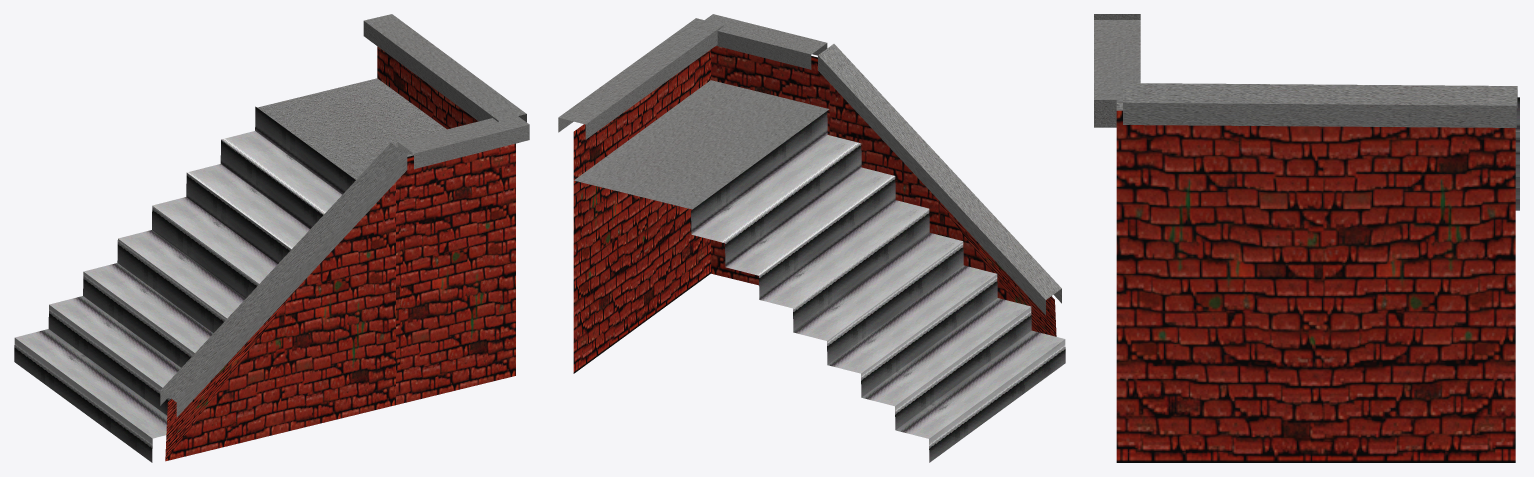
File: treppe[ziegel)_321.glb
3 views of the same model, side by side, from view 1: azimuth 30°, elevation 25°; view 2: azimuth 150°, elevation 25°; view 3: azimuth 270°, elevation 25° (orthographic). The views are drawn at different scales.
Parts seen in each view (by area): view 1: pPlaneShape178, pPlaneShape175, pPlaneShape176, pCylinderShape33, pPlaneShape2, pCylinderShape35, pCylinderShape34, pPlaneShape177; view 2: pPlaneShape178, pPlaneShape177, pPlaneShape2, pCylinderShape33, pPlaneShape175, pCylinderShape35, pPlaneShape176, pCylinderShape34; view 3: pPlaneShape177, pCylinderShape35, pCylinderShape34, pCylinderShape33, pPlaneShape178.
Part boxes in pixels (left/top/right/bottom): pPlaneShape178: left=14, top=106, right=355, bottom=462; pPlaneShape175: left=165, top=182, right=395, bottom=461; pPlaneShape176: left=396, top=143, right=515, bottom=404; pCylinderShape33: left=160, top=143, right=407, bottom=417; pPlaneShape2: left=257, top=78, right=446, bottom=179; pCylinderShape35: left=363, top=14, right=526, bottom=122; pCylinderShape34: left=397, top=116, right=529, bottom=168; pPlaneShape177: left=377, top=46, right=478, bottom=129; pPlaneShape178: left=691, top=111, right=1065, bottom=462; pPlaneShape177: left=573, top=49, right=710, bottom=373; pPlaneShape2: left=574, top=80, right=829, bottom=209; pCylinderShape33: left=818, top=44, right=1061, bottom=314; pPlaneShape175: left=829, top=83, right=1056, bottom=336; pCylinderShape35: left=558, top=18, right=723, bottom=139; pPlaneShape176: left=711, top=46, right=829, bottom=285; pCylinderShape34: left=705, top=14, right=827, bottom=69; pPlaneShape177: left=1116, top=110, right=1515, bottom=462; pCylinderShape35: left=1123, top=83, right=1517, bottom=127; pCylinderShape34: left=1094, top=20, right=1140, bottom=99; pCylinderShape33: left=1094, top=14, right=1140, bottom=127; pPlaneShape178: left=1515, top=97, right=1519, bottom=210.
Size of the model in its own units: 0.7832 by 0.5121 by 0.534.
8 materials, 8 textured.
